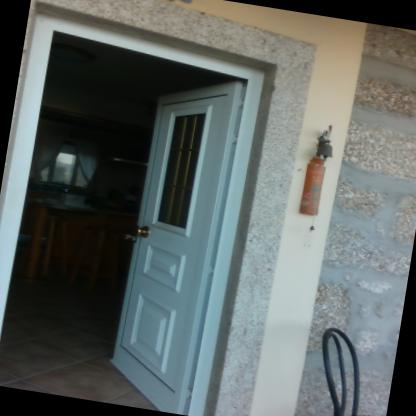open: (0, 12, 274, 415)
